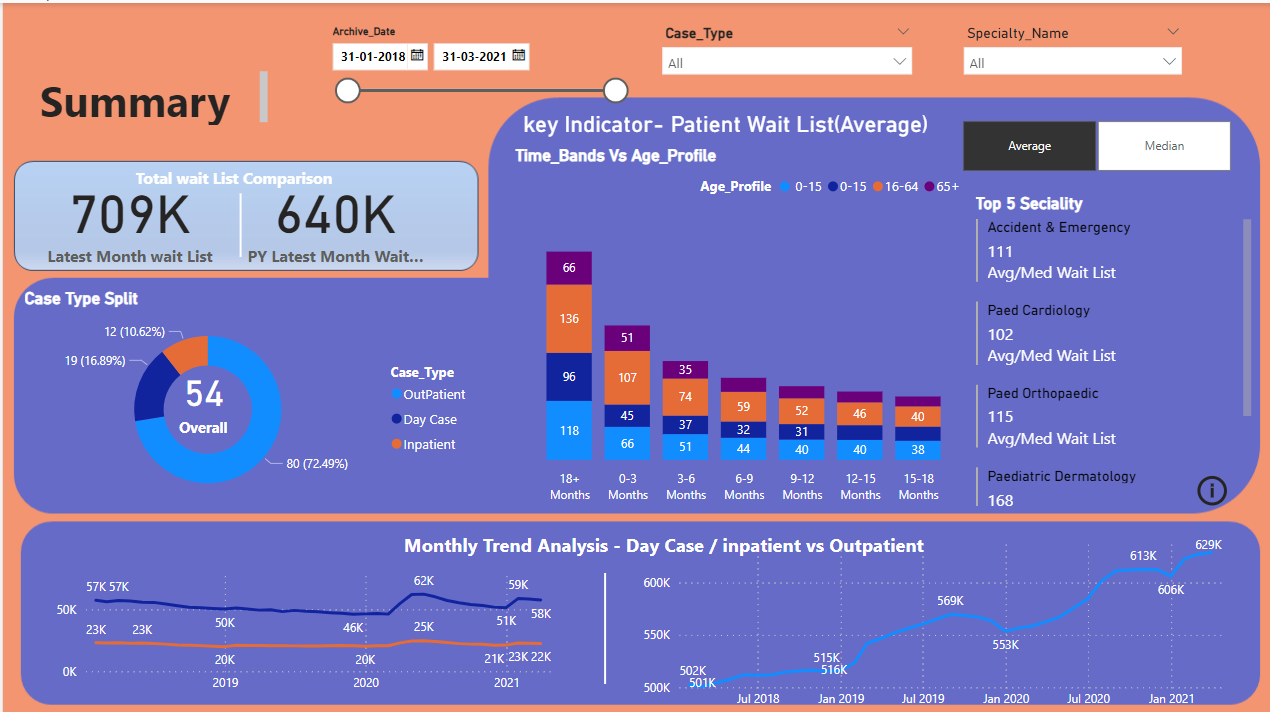

Layout of this report page (visuals, bound fields, positions):
{"tool":"powerbi","page":{"name":"Summary","canvas":[1280,720],"ordinal":0},"visuals":[{"type":"card","fields":{"Values":["All_Data.Latest Month wait List"]},"box":[32,160,192,112],"z":0},{"type":"card","fields":{"Values":["All_Data.PY Latest Month Wait List"]},"box":[240,160,192,112],"z":1000},{"type":"slicer","fields":{"Values":["Calculation Method.Cal Method"]},"box":[944,112,320,64],"z":2000},{"type":"donutChart","title":"Case Type Split","fields":{"Category":["All_Data.Case_Type"],"Y":["All_Data.Avg/Med Wait List"]},"box":[15.9,287.9,464.5,224.3],"z":3000},{"type":"columnChart","title":"Time_Bands Vs Age_Profile","fields":{"Y":["All_Data.Avg/Med Wait List"],"Series":["All_Data.Age_Profile"],"Category":["All_Data.Time_Bands"]},"box":[512,144,464,368],"z":4000},{"type":"multiRowCard","title":"Top 5 Seciality","fields":{"Values":["All_Data.Specialty_Name","All_Data.Avg/Med Wait List"]},"box":[976,192,288,320],"z":5000},{"type":"card","fields":{"Values":["All_Data.NoDataLeft"]},"box":[163.8,548.8,278.4,147.9],"z":6000},{"type":"lineChart","fields":{"Category":["All_Data.Archive_Date"],"Y":["Sum(All_Data.Total)"],"Series":["All_Data.Case_Type"]},"box":[48,560,512,144],"z":7000},{"type":"card","fields":{"Values":["All_Data.NoDataRight"]},"box":[820.8,539.2,278.4,147.9],"z":8000},{"type":"lineChart","fields":{"Category":["All_Data.Archive_Date"],"Y":["Sum(All_Data.Total)"],"Series":["All_Data.Case_Type"]},"box":[640,528,608,192],"z":9000},{"type":"slicer","fields":{"Values":["All_Data.Archive_Date"]},"box":[320,16,320,112],"z":10000},{"type":"slicer","fields":{"Values":["All_Data.Case_Type"]},"box":[656,16,272,80],"z":11000},{"type":"slicer","fields":{"Values":["All_Data.Specialty_Name"]},"box":[960,16,240,80],"z":12000},{"type":"textbox","box":[32,64,240,64],"z":13000},{"type":"card","fields":{"Values":["All_Data.Avg/Med Wait List"]},"box":[144.7,359.5,112.9,82.7],"z":14000},{"type":"shape","box":[144,192,192,64],"z":15000},{"type":"textbox","box":[128,160,272,64],"z":16000},{"type":"textbox","box":[399.2,528.1,625.1,47.7],"z":17000},{"type":"shape","box":[512,576,192,112],"z":18000},{"type":"card","fields":{"Values":["All_Data.Dynamic Title"]},"box":[432.6,47.7,591.7,144.7],"z":19000},{"type":"actionButton","box":[1200.9,472.4,79.5,39.8],"z":20000}]}

Visuals, with their boxes in screenshot pixels (x1, y1, x2, y2), scaled from the page's 1280x720 canvas onto the 1270x712 screenshot:
card - All_Data.Latest Month wait List: {"left": 32, "top": 158, "right": 222, "bottom": 269}
card - All_Data.PY Latest Month Wait List: {"left": 238, "top": 158, "right": 429, "bottom": 269}
slicer - Calculation Method.Cal Method: {"left": 937, "top": 111, "right": 1254, "bottom": 174}
"Case Type Split" donutChart: {"left": 16, "top": 285, "right": 477, "bottom": 507}
"Time_Bands Vs Age_Profile" columnChart: {"left": 508, "top": 142, "right": 968, "bottom": 506}
"Top 5 Seciality" multiRowCard: {"left": 968, "top": 190, "right": 1254, "bottom": 506}
card - All_Data.NoDataLeft: {"left": 163, "top": 543, "right": 439, "bottom": 689}
lineChart - All_Data.Archive_Date x Sum(All_Data.Total): {"left": 48, "top": 554, "right": 556, "bottom": 696}
card - All_Data.NoDataRight: {"left": 814, "top": 533, "right": 1091, "bottom": 679}
lineChart - All_Data.Archive_Date x Sum(All_Data.Total): {"left": 635, "top": 522, "right": 1238, "bottom": 711}
slicer - All_Data.Archive_Date: {"left": 318, "top": 16, "right": 635, "bottom": 127}
slicer - All_Data.Case_Type: {"left": 651, "top": 16, "right": 921, "bottom": 95}
slicer - All_Data.Specialty_Name: {"left": 952, "top": 16, "right": 1191, "bottom": 95}
textbox: {"left": 32, "top": 63, "right": 270, "bottom": 127}
card - All_Data.Avg/Med Wait List: {"left": 144, "top": 356, "right": 256, "bottom": 437}
shape: {"left": 143, "top": 190, "right": 333, "bottom": 253}
textbox: {"left": 127, "top": 158, "right": 397, "bottom": 222}
textbox: {"left": 396, "top": 522, "right": 1016, "bottom": 569}
shape: {"left": 508, "top": 570, "right": 698, "bottom": 680}
card - All_Data.Dynamic Title: {"left": 429, "top": 47, "right": 1016, "bottom": 190}
actionButton: {"left": 1192, "top": 467, "right": 1269, "bottom": 507}
